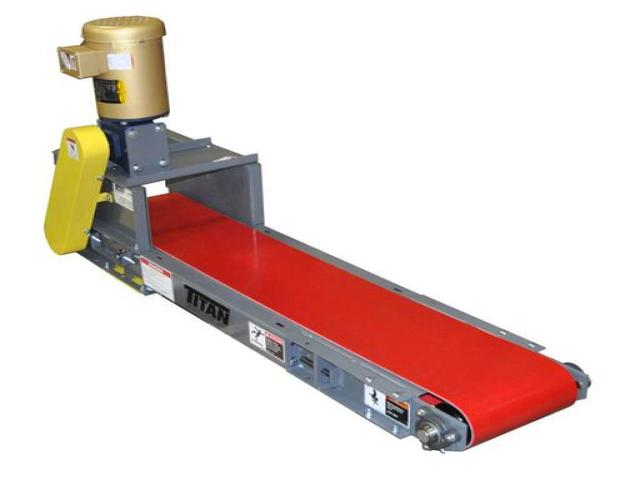conveyor: (40, 14, 592, 455)
